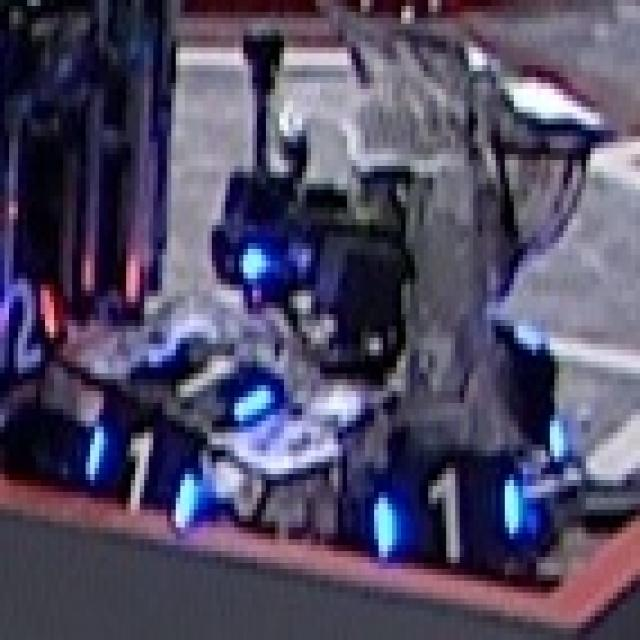B1: (370, 462, 522, 563), (81, 421, 198, 533), (144, 326, 275, 421)
